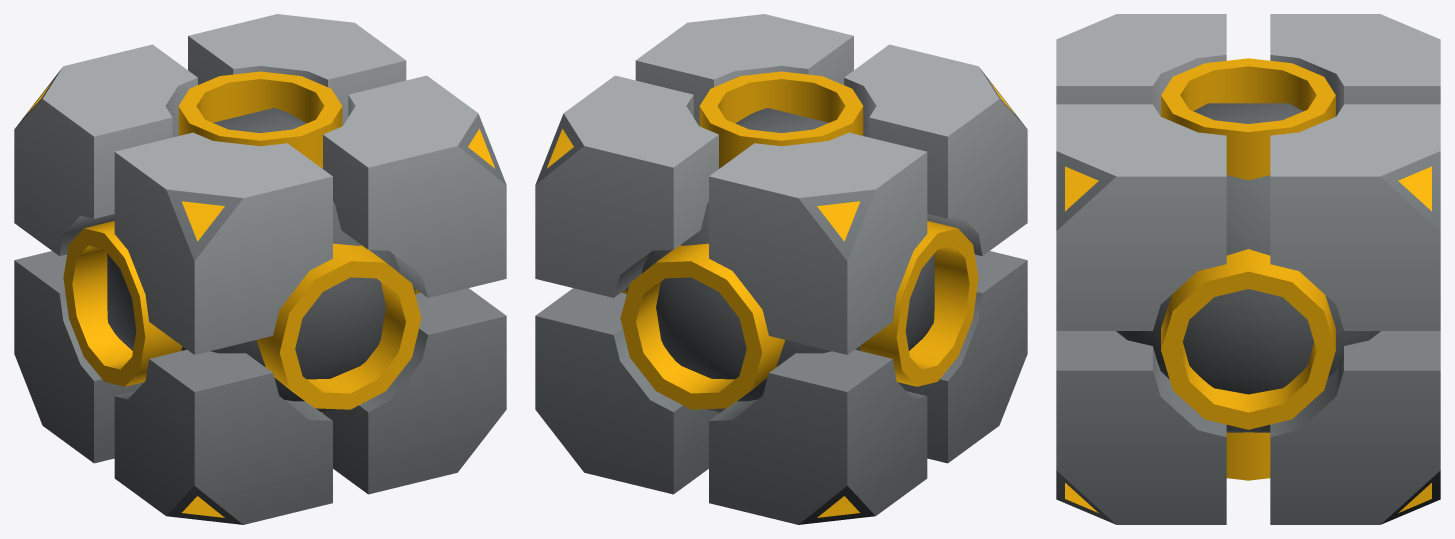
The picture shows the model from 3 angles, left to right: view 1: azimuth 30°, elevation 25°; view 2: azimuth 150°, elevation 25°; view 3: azimuth 270°, elevation 25°; orthographic projection. The views are drawn at different scales.
Visible parts, largest first — view 1: Box_013; view 2: Box_013; view 3: Box_013.
Boxes of the visible parts, <box> form: Box_013: <box>14,14,506,524</box>; Box_013: <box>535,14,1027,524</box>; Box_013: <box>1056,14,1440,524</box>.
Bounding box in the file's own units: 0.6476 × 0.6476 × 0.6476.
Materials: 2 (2 with a texture image).
